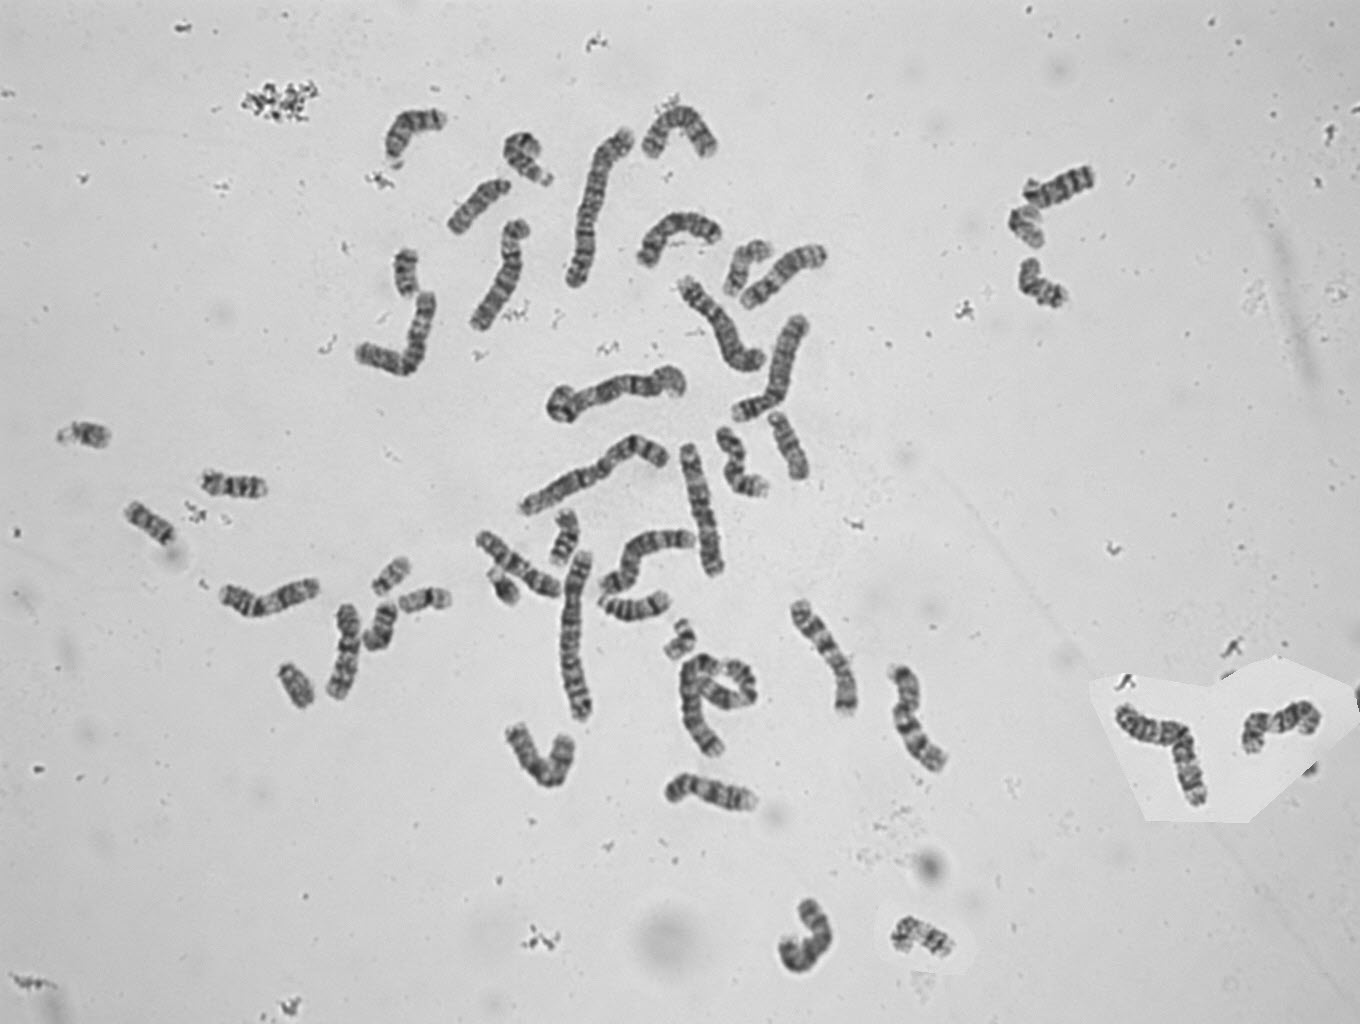chromosomes: (554, 124, 638, 297), (517, 428, 672, 521), (1105, 699, 1217, 823), (673, 274, 776, 376), (728, 311, 814, 426), (539, 360, 695, 424), (783, 600, 865, 719), (346, 290, 443, 385), (468, 212, 536, 340), (884, 659, 954, 780), (597, 524, 701, 599), (558, 544, 600, 727), (677, 438, 730, 581), (472, 527, 568, 602), (770, 892, 847, 982), (738, 245, 839, 314), (639, 95, 727, 170), (628, 212, 727, 278), (498, 717, 579, 791), (677, 650, 730, 763), (1240, 696, 1326, 760), (213, 574, 328, 622), (656, 771, 765, 821), (713, 424, 777, 504), (440, 170, 515, 239), (380, 105, 452, 168), (498, 128, 559, 201), (885, 912, 967, 965), (1011, 252, 1073, 318), (325, 599, 363, 705), (765, 408, 816, 487), (717, 234, 774, 304), (1021, 161, 1100, 212), (692, 658, 762, 713), (118, 495, 181, 550), (595, 584, 676, 624), (194, 465, 275, 503), (45, 416, 118, 459), (383, 241, 425, 308), (274, 657, 319, 714), (366, 551, 415, 599), (999, 205, 1049, 253), (547, 503, 583, 566), (361, 598, 398, 658), (479, 561, 525, 610), (397, 586, 459, 618), (660, 614, 698, 664)
